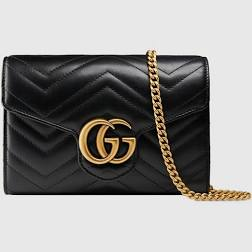Gucci: (2, 46, 245, 206), (70, 116, 143, 169)
